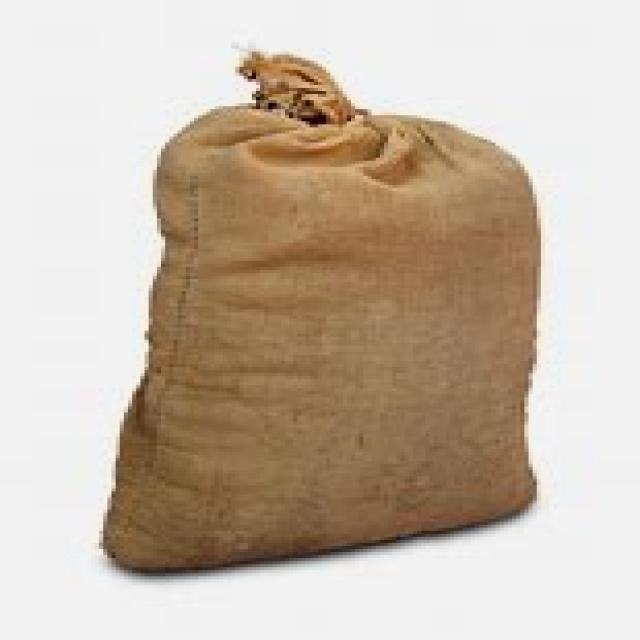gunny_bag: (93, 46, 552, 576)
